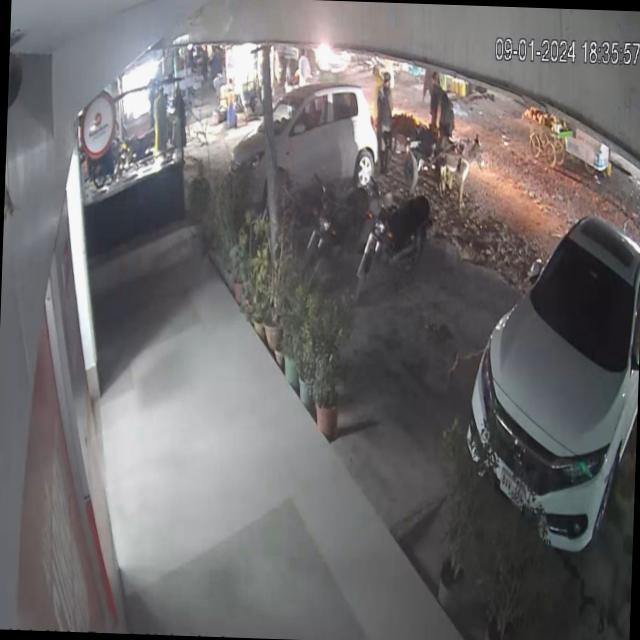Car: (461, 189, 640, 573), (227, 81, 397, 217)
Motorcycle: (357, 172, 438, 312), (304, 180, 369, 292)
